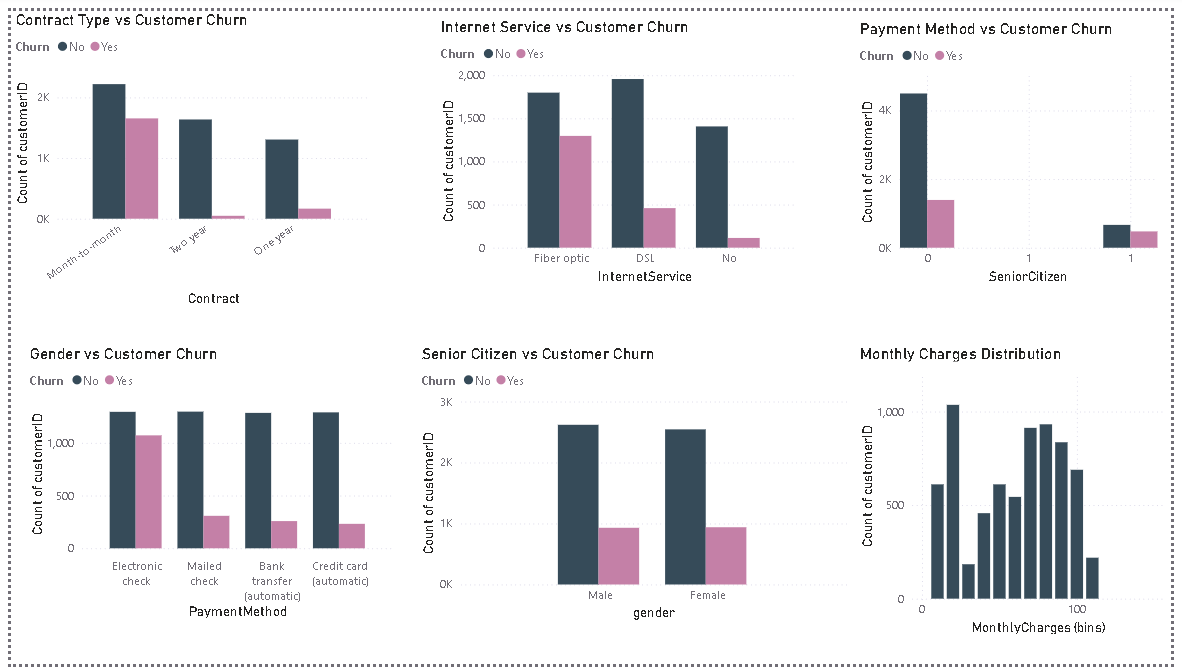

What the dashboard file says about the page in this screenshot:
{"tool":"powerbi","page":{"name":"Page 1","canvas":[1280,720],"ordinal":0},"visuals":[{"type":"clusteredColumnChart","title":"Contract Type vs Customer Churn","fields":{"Category":["Cleaned_Telco_Customer_Churn.Contract"],"Series":["Cleaned_Telco_Customer_Churn.Churn"],"Y":["CountNonNull(Cleaned_Telco_Customer_Churn.customerID)"]},"box":[0,0,400.3,330.3],"z":0},{"type":"clusteredColumnChart","title":"Internet Service vs Customer Churn","fields":{"Category":["Cleaned_Telco_Customer_Churn.InternetService"],"Y":["CountNonNull(Cleaned_Telco_Customer_Churn.customerID)"],"Series":["Cleaned_Telco_Customer_Churn.Churn"]},"box":[470.2,7.8,402.2,297.3],"z":1000},{"type":"clusteredColumnChart","title":"Gender vs Customer Churn","fields":{"Category":["Cleaned_Telco_Customer_Churn.PaymentMethod"],"Y":["CountNonNull(Cleaned_Telco_Customer_Churn.customerID)"],"Series":["Cleaned_Telco_Customer_Churn.Churn"]},"box":[15.5,367.2,411.9,307],"z":2000},{"type":"clusteredColumnChart","title":"Senior Citizen vs Customer Churn","fields":{"Category":["Cleaned_Telco_Customer_Churn.gender"],"Y":["CountNonNull(Cleaned_Telco_Customer_Churn.customerID)"],"Series":["Cleaned_Telco_Customer_Churn.Churn"]},"box":[448.9,367.2,479.9,308.9],"z":3000},{"type":"clusteredColumnChart","title":"Payment Method vs Customer Churn","fields":{"Category":["Cleaned_Telco_Customer_Churn.SeniorCitizen"],"Series":["Cleaned_Telco_Customer_Churn.Churn"],"Y":["CountNonNull(Cleaned_Telco_Customer_Churn.customerID)"]},"box":[932.7,9.7,338.1,295.3],"z":4000},{"type":"clusteredColumnChart","title":"Monthly Charges Distribution","fields":{"Category":["Cleaned_Telco_Customer_Churn.MonthlyCharges (bins)"],"Y":["CountNonNull(Cleaned_Telco_Customer_Churn.customerID)"]},"box":[932.7,367.2,345.9,324.5],"z":5000}]}

Visuals, with their boxes in screenshot pixels (x1, y1, x2, y2), scaled from the page's 1280x720 canvas onto the 1182x671 screenshot:
"Contract Type vs Customer Churn" clusteredColumnChart: <region>0, 0, 370, 308</region>
"Internet Service vs Customer Churn" clusteredColumnChart: <region>434, 7, 806, 284</region>
"Gender vs Customer Churn" clusteredColumnChart: <region>14, 342, 395, 628</region>
"Senior Citizen vs Customer Churn" clusteredColumnChart: <region>415, 342, 858, 630</region>
"Payment Method vs Customer Churn" clusteredColumnChart: <region>861, 9, 1174, 284</region>
"Monthly Charges Distribution" clusteredColumnChart: <region>861, 342, 1181, 645</region>
